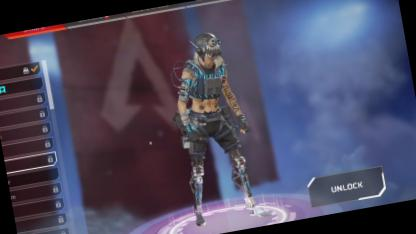Target: (160, 28, 248, 184)
